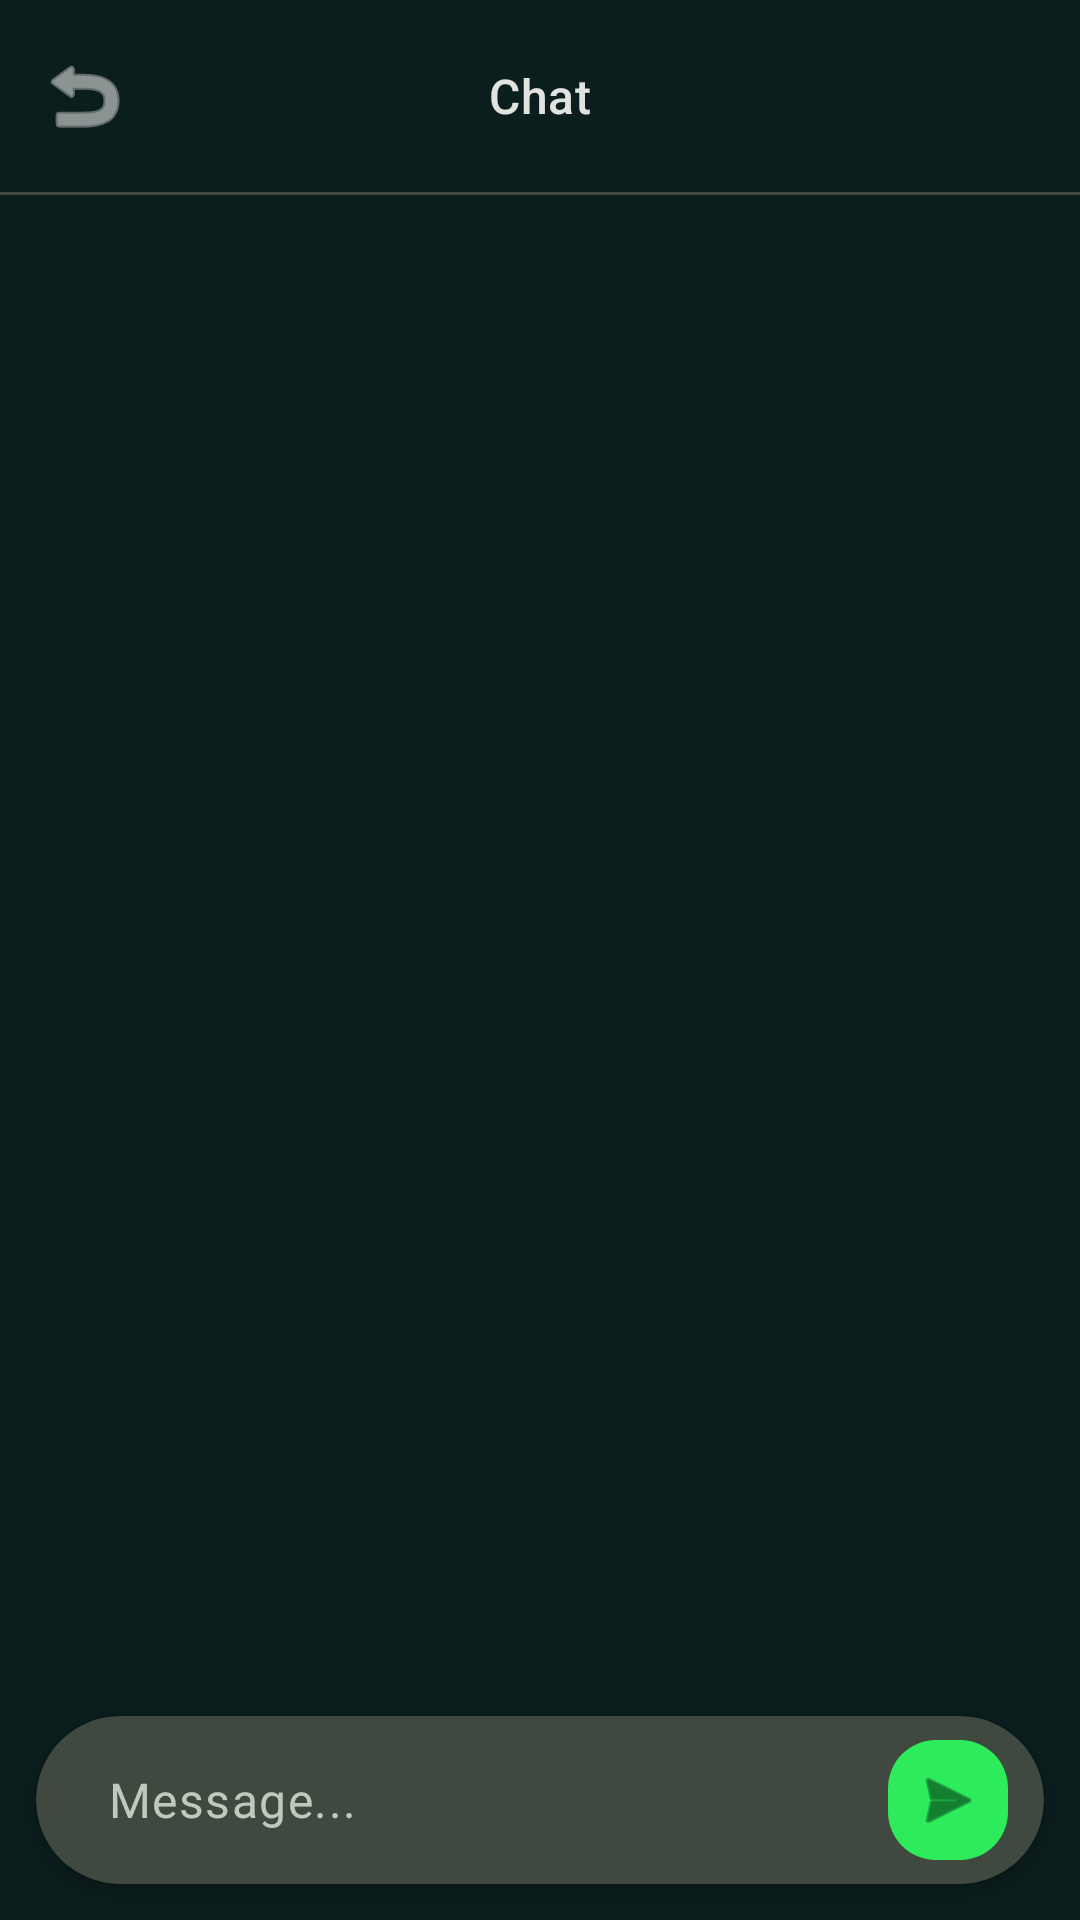

Named icons in this screenshot (1080 x 1920) and their bounding boxes, (x1, y1, x2, y2):
send: (888, 1740, 1008, 1860)
